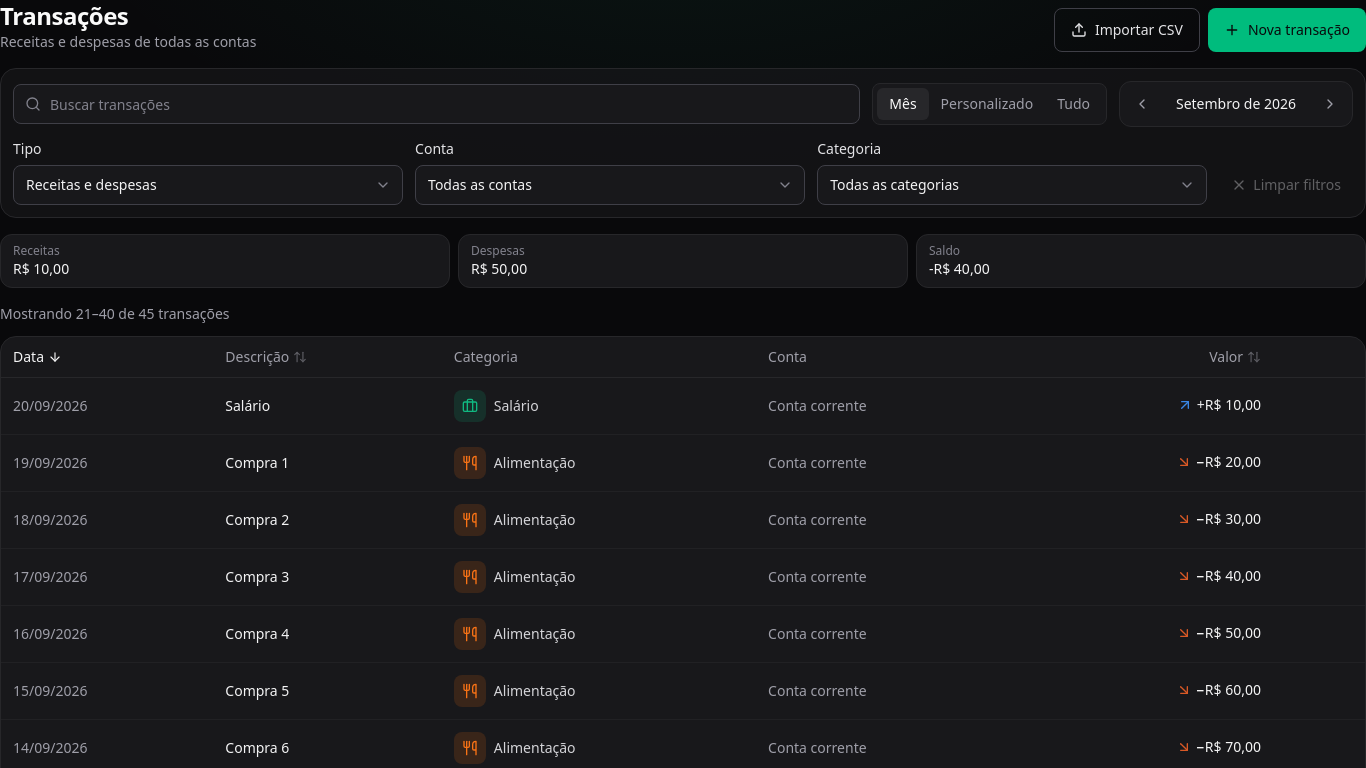
TransactionsPage › filters by type, keeps it in the URL and goes back to page 1
The width and height of the screenshot is (1366, 768).
Select "Despesas" in the dropdown labelled "Tipo": coordinates (208, 185) [13, 165, 403, 205]
(page scrolled)
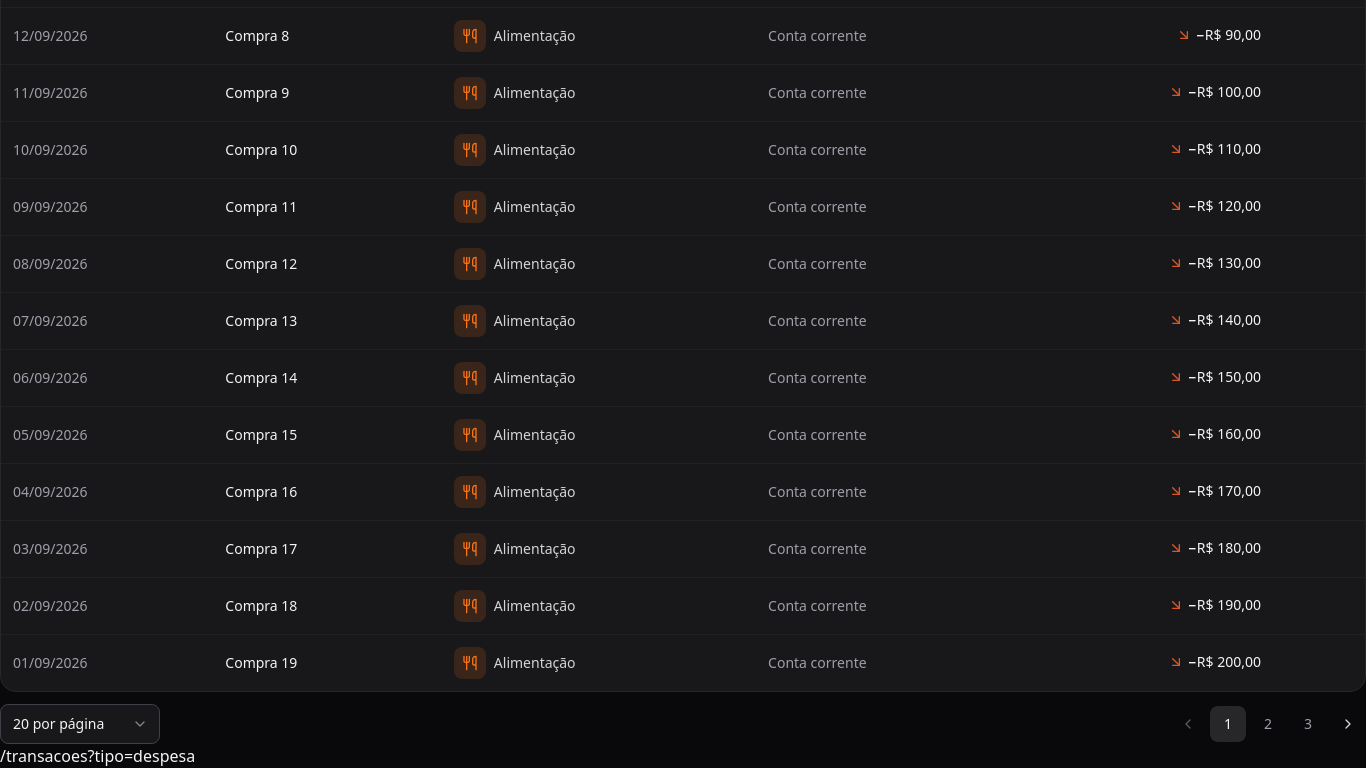
Expected: the text with test id "location" does not show "pagina", [0, 745, 195, 767]
Expected: the text with test id "location" shows "tipo=despesa", [88, 745, 195, 767]
